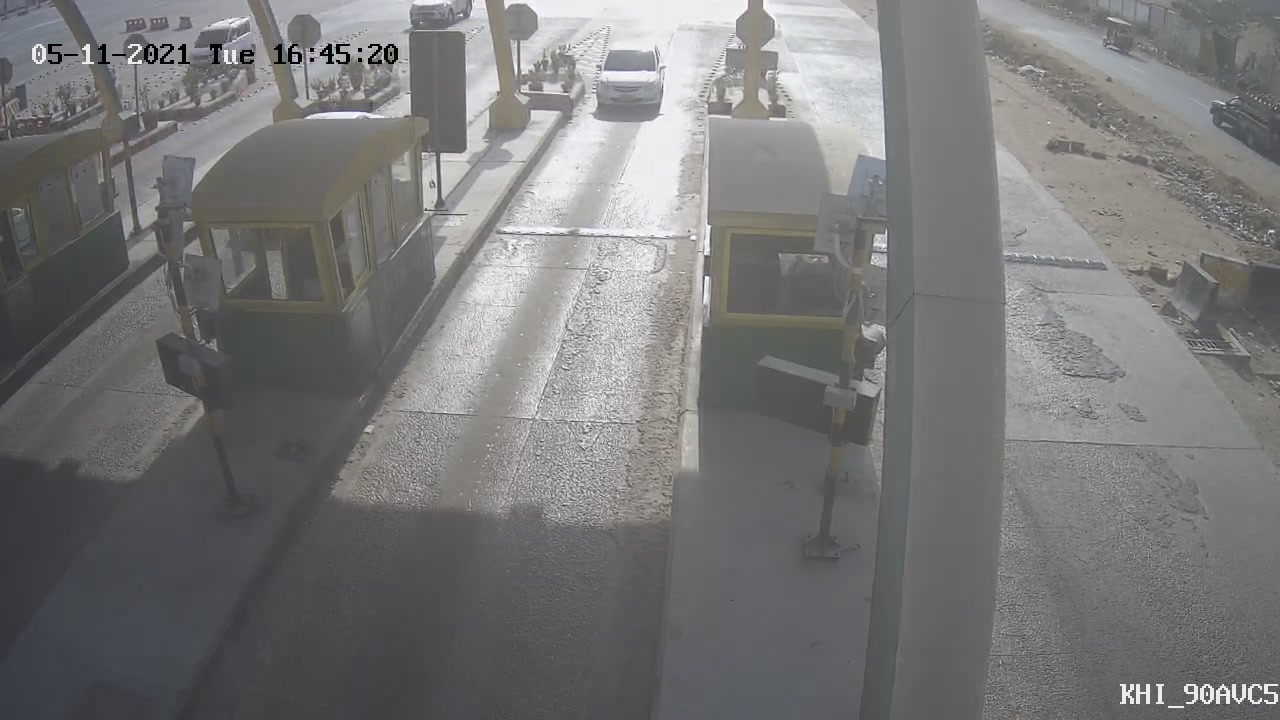F1: (585, 36, 679, 125)
